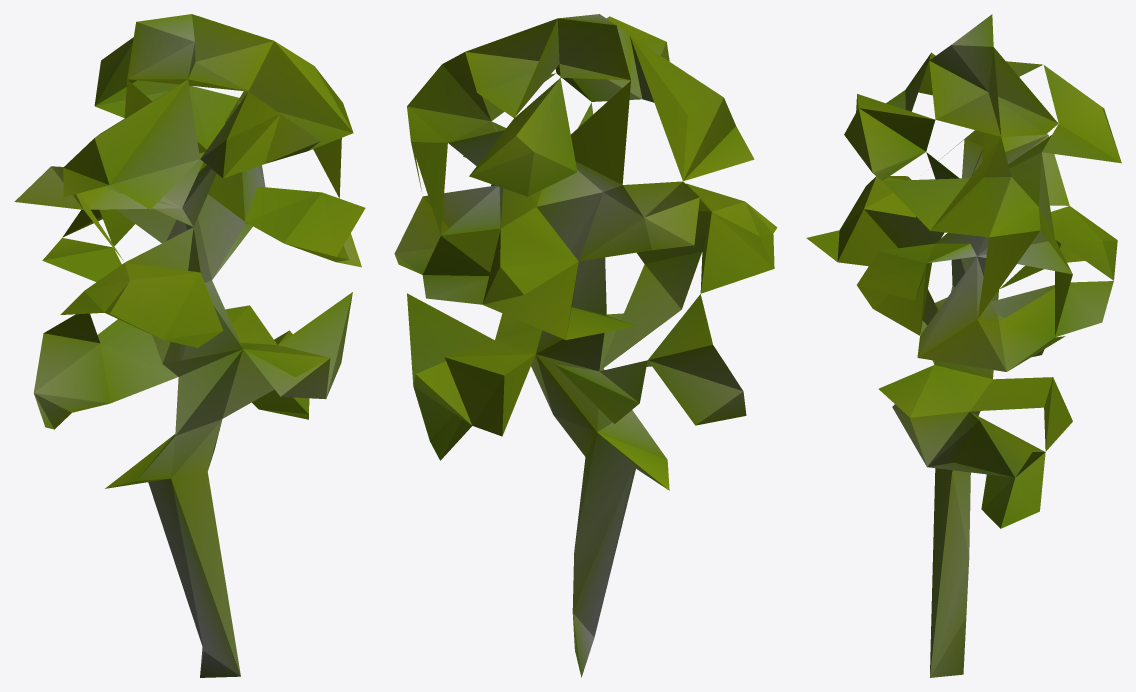
The model's file is tree-birch.glb.
3 views of the same model, side by side, from view 1: azimuth 30°, elevation 25°; view 2: azimuth 150°, elevation 25°; view 3: azimuth 270°, elevation 25° (orthographic). The views are drawn at different scales.
Parts seen in each view (by area): view 1: tree-birch-far; view 2: tree-birch-far; view 3: tree-birch-far.
Part boxes in pixels (x1=…): tree-birch-far: x1=14, y1=14, x2=365, y2=677; tree-birch-far: x1=394, y1=14, x2=777, y2=677; tree-birch-far: x1=806, y1=14, x2=1121, y2=677.
Size of the model in its own units: 4.25 by 8.21 by 3.68.
